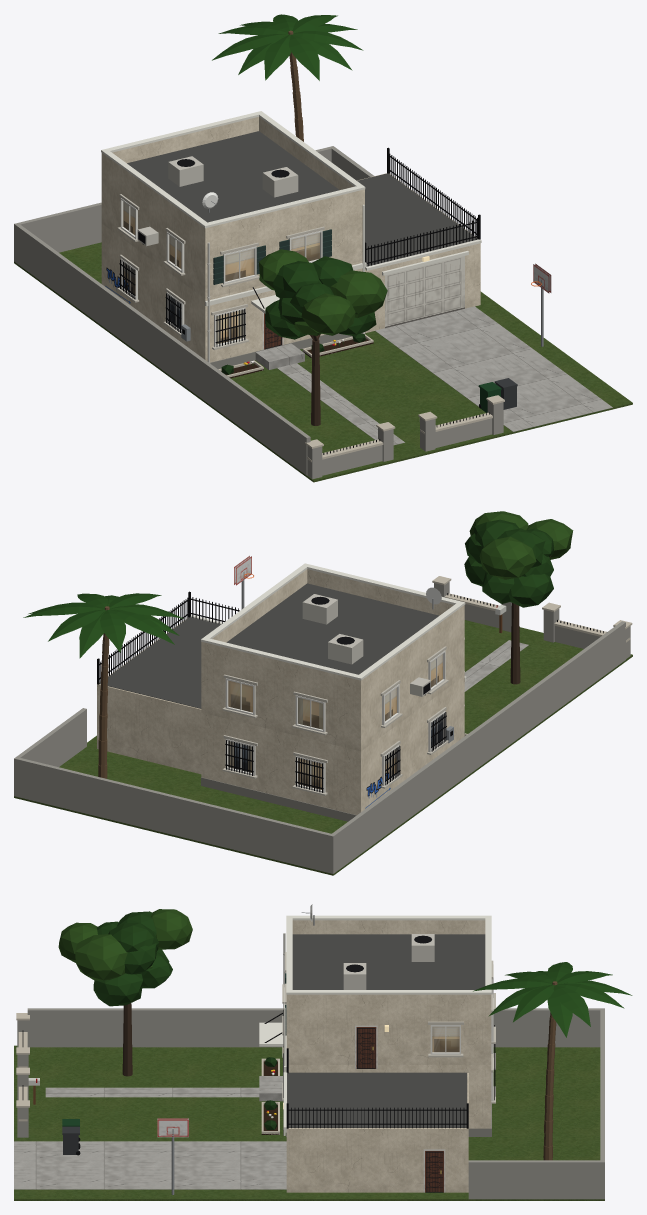
Rendered from HouseB.glb.
3 renders of one model, top to bottom at view 1: azimuth 30°, elevation 25°; view 2: azimuth 150°, elevation 25°; view 3: azimuth 270°, elevation 25°, orthographic.
Visible parts, largest first — view 1: Walls, Block, Lawn, Concrete, Flat, Trim, Palm, LeafB, GarageDoor, Leaf, Iron, Frame (+9 smaller); view 2: Walls, Block, Flat, Lawn, Palm, Leaf, Trim, LeafB, Frame, WinIron, Iron, AcBody (+9 smaller); view 3: Lawn, Walls, Block, Flat, Concrete, Palm, Trim, Leaf, LeafB, Iron, SecurityDoor, Trunk (+8 smaller).
Boxes of the visible parts, x1,y1,x2,y2 form: Walls: (101, 117, 480, 362); Block: (14, 146, 503, 479); Lawn: (14, 242, 632, 482); Concrete: (255, 306, 612, 445); Flat: (127, 131, 477, 266); Trim: (101, 111, 481, 333); Palm: (212, 14, 363, 80); LeafB: (259, 249, 387, 335); GarageDoor: (385, 256, 464, 328); Leaf: (265, 256, 376, 339); Iron: (143, 147, 489, 454); Frame: (120, 198, 322, 347); Walls: (97, 569, 464, 814); Block: (14, 582, 630, 873); Flat: (99, 583, 438, 708); Lawn: (14, 620, 632, 875); Palm: (23, 593, 183, 658); Leaf: (464, 519, 553, 607); Trim: (190, 563, 466, 681); LeafB: (469, 511, 573, 579); Frame: (225, 650, 445, 792); WinIron: (225, 712, 452, 792); Iron: (97, 591, 603, 695); AcBody: (302, 594, 430, 696); Lawn: (14, 1045, 604, 1200); Walls: (286, 920, 491, 1192); Block: (17, 1008, 604, 1199); Flat: (288, 934, 485, 1127); Concrete: (14, 1076, 286, 1189); Palm: (473, 962, 632, 1037); Trim: (259, 915, 491, 1135); Leaf: (93, 911, 172, 1006); LeafB: (58, 909, 192, 980); Iron: (22, 1012, 468, 1128); SecurityDoor: (355, 1025, 445, 1192); Trunk: (543, 981, 557, 1160).
Size of the model in its own units: 58.76 by 32.52 by 98.03.
Materials: 47 (47 with a texture image).
